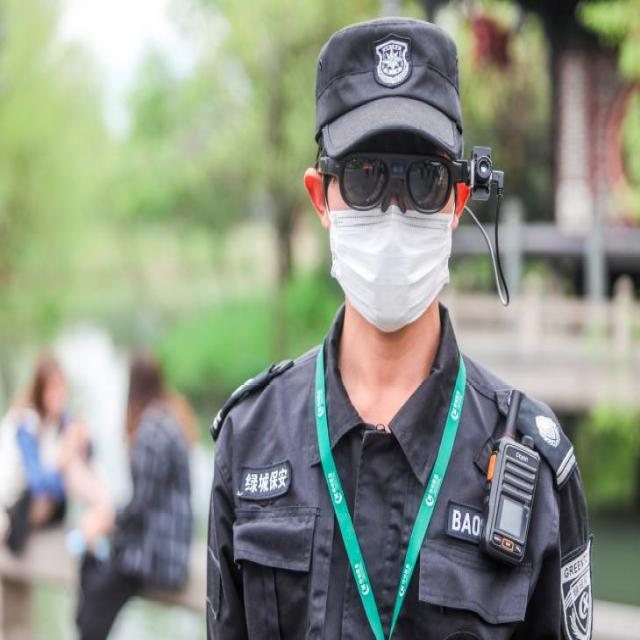Mask: (325, 204, 456, 329)
